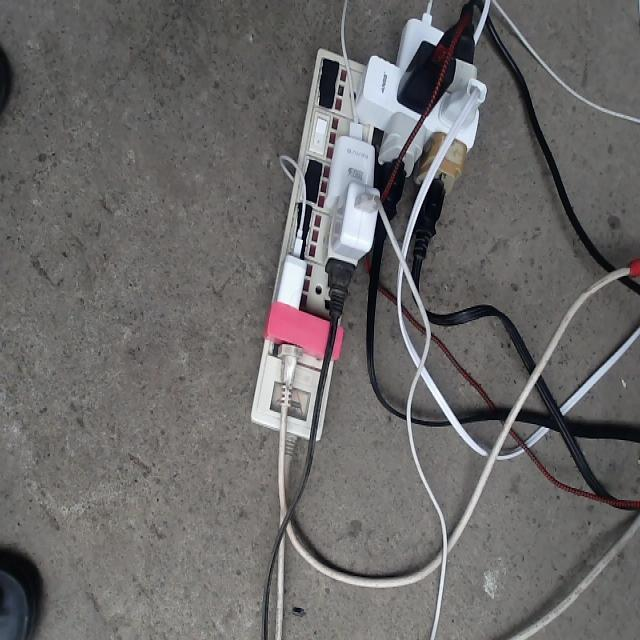-: (242, 4, 488, 457)
